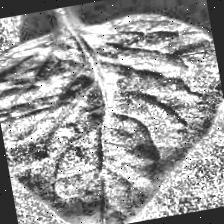spider mites: (0, 6, 224, 224)
